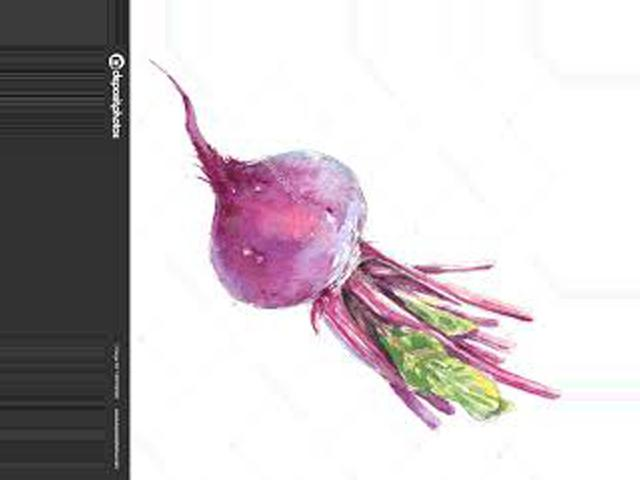beet: (149, 61, 559, 429)
